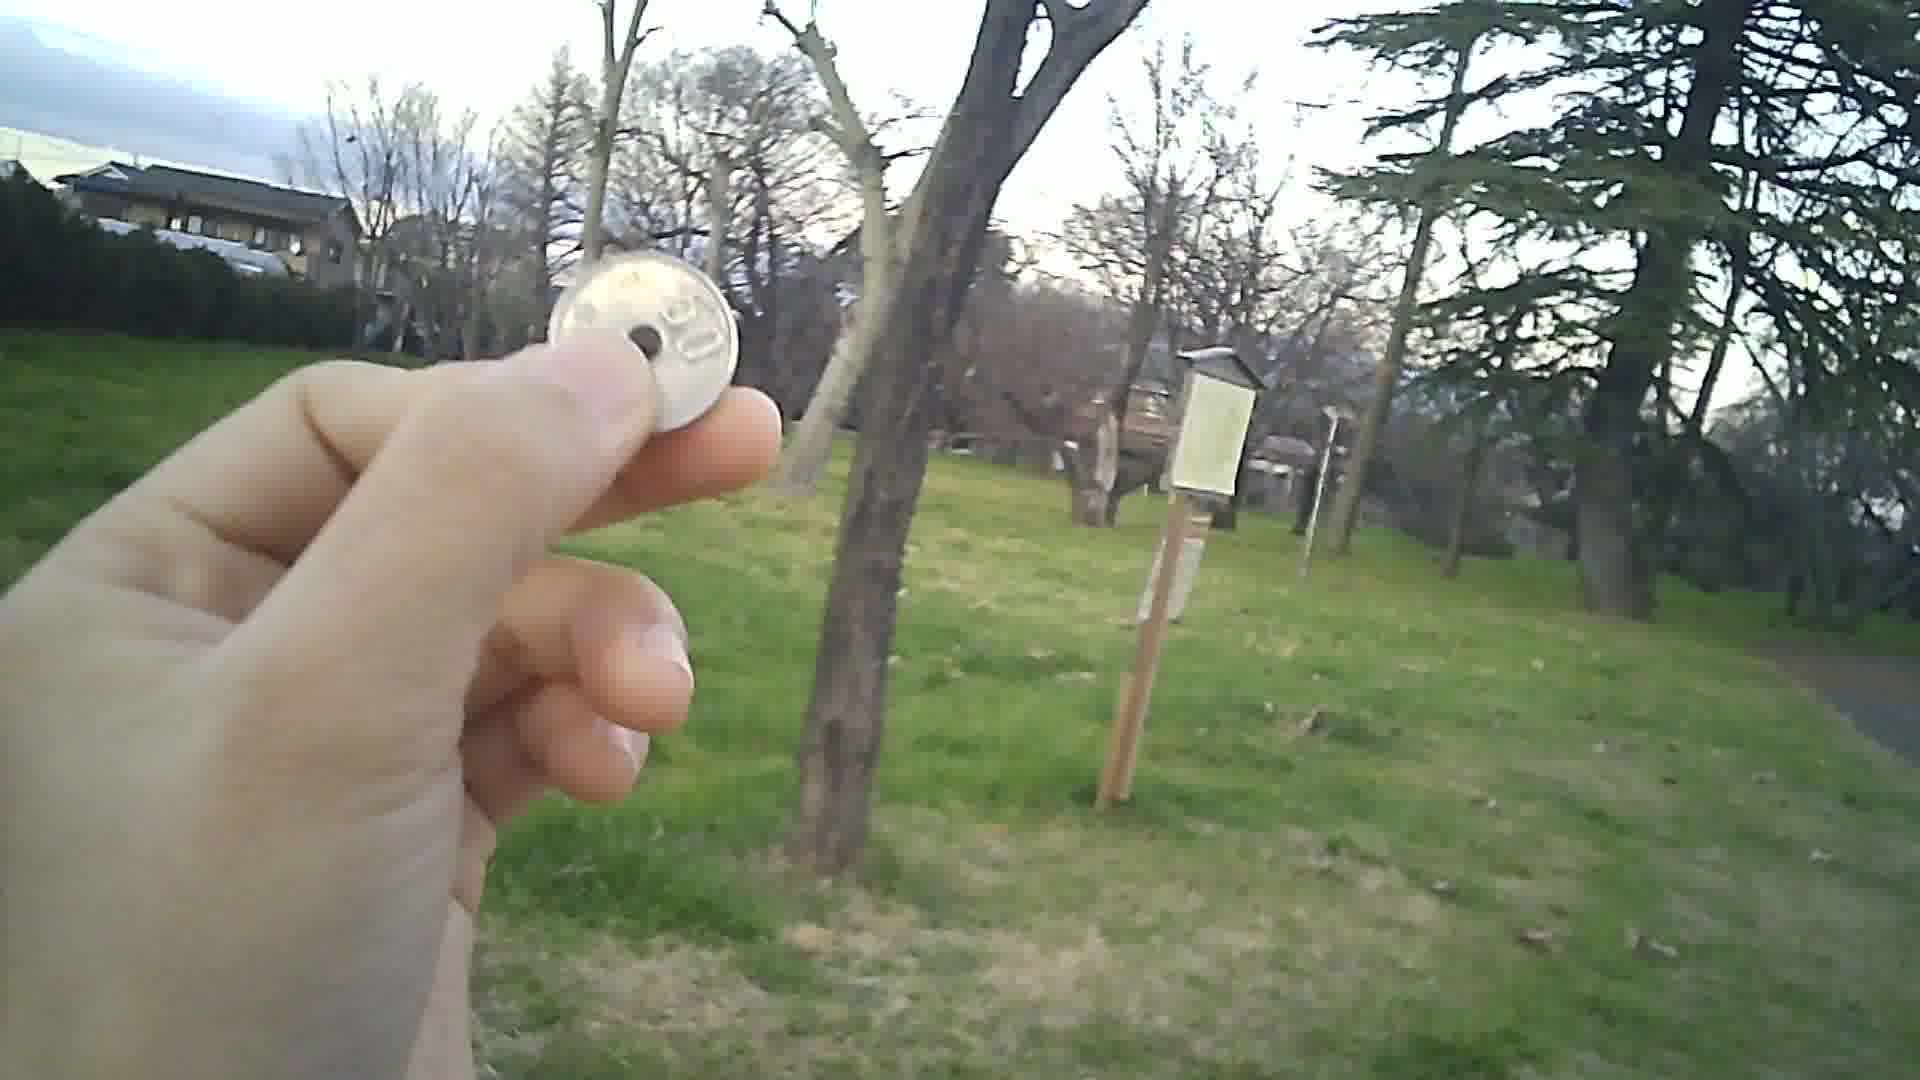50 Yen: (537, 243, 756, 433)
